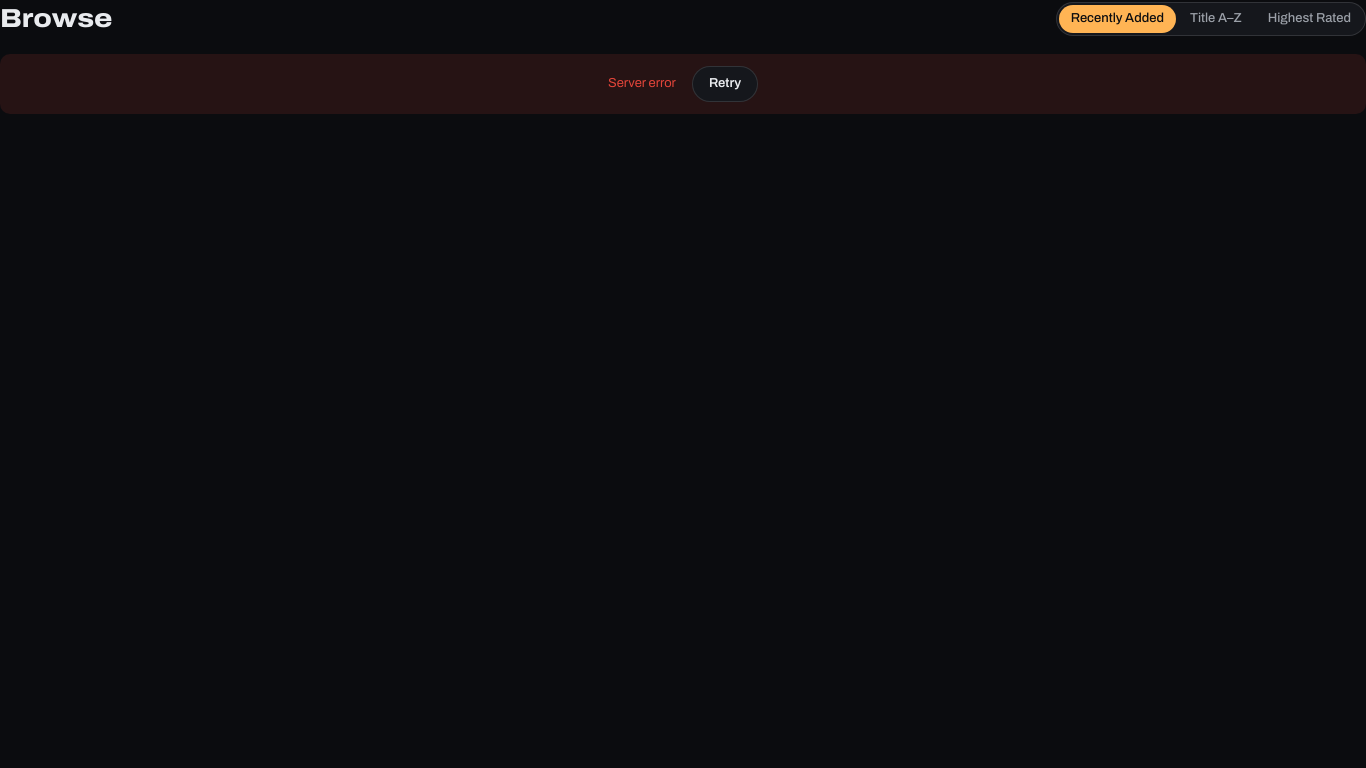
Test: BrowsePage — browser-shell-browse-F7: a failed GET /libraries shows an error with Retry, not an infinite skeleton › renders the error + Retry instead of the pills skeleton, and a successful retry recovers
This screenshot has width=1366, height=768.
Click the button "Retry": (725, 84) [692,66,758,102]
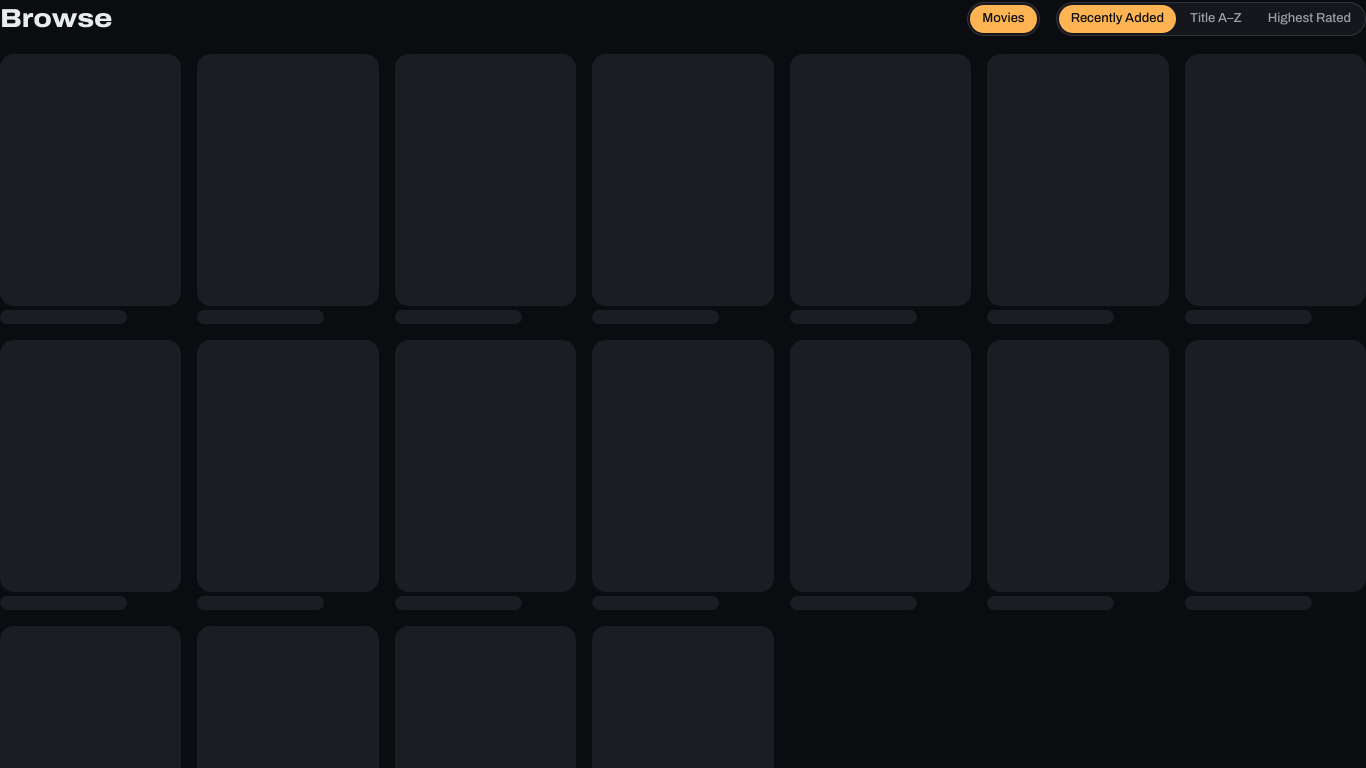
Expected: the element showing "Movies" is shown, [967,2,1040,36]
